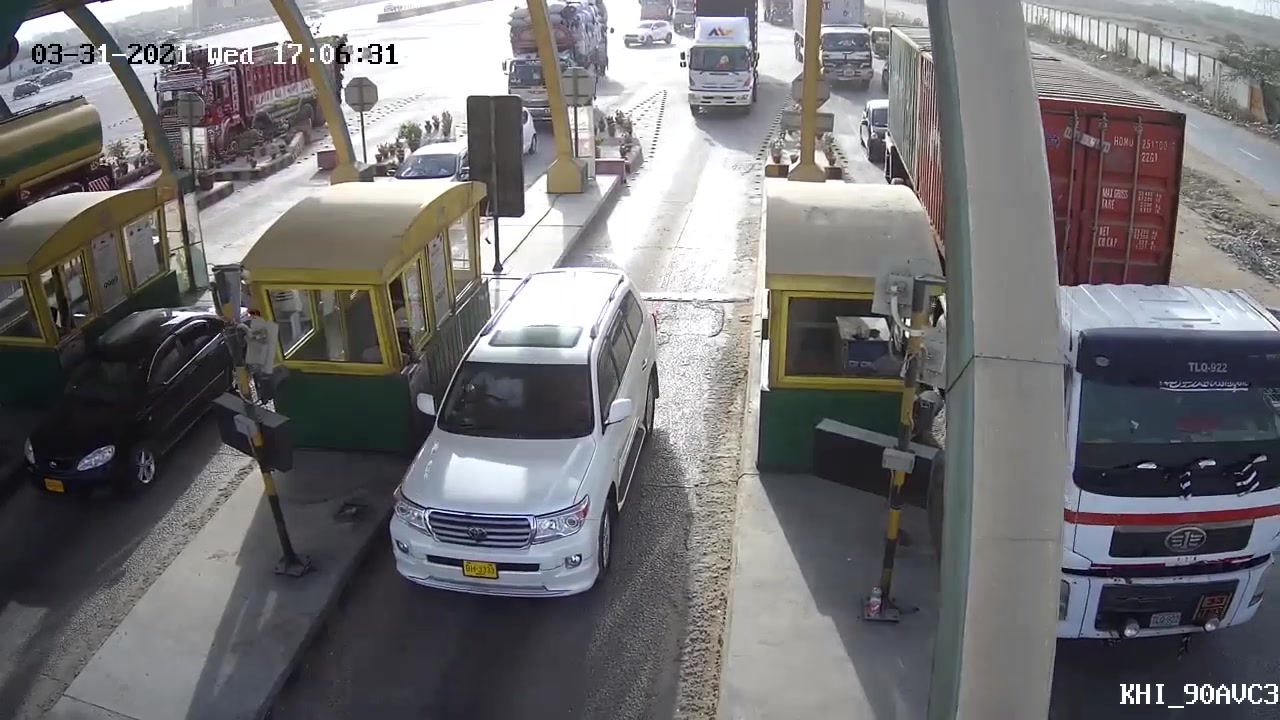F1: (364, 266, 668, 612)
